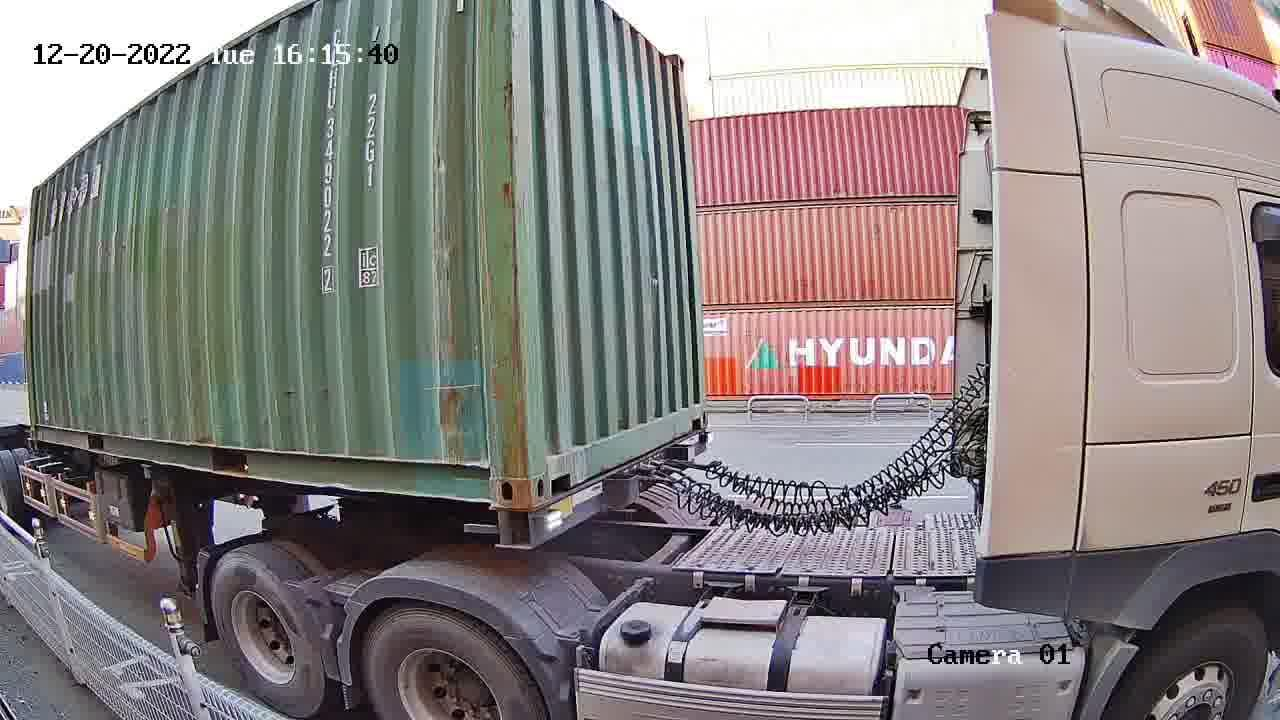Chassis: (495, 427, 711, 546)
Cone: (492, 510, 536, 546)
Hole_L: (527, 425, 586, 506)
Hole_R: (444, 435, 531, 506), (677, 390, 708, 437)
Tire: (363, 606, 544, 718), (210, 556, 327, 718)
